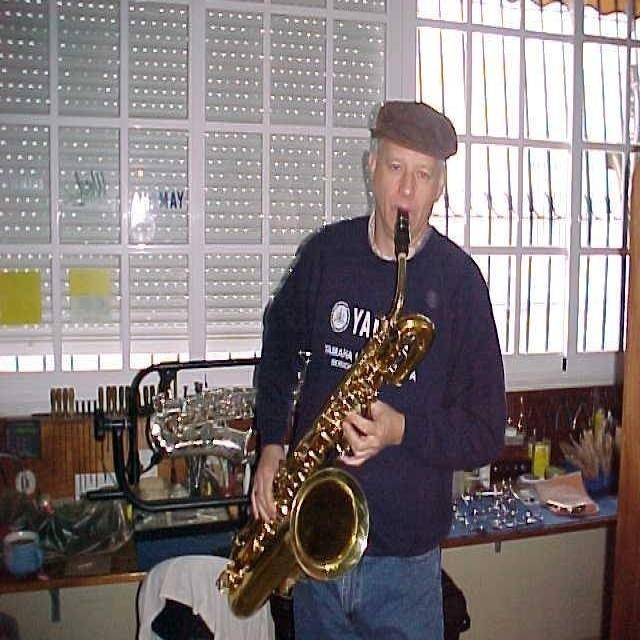saxophone: (221, 206, 438, 626), (144, 376, 258, 464)
